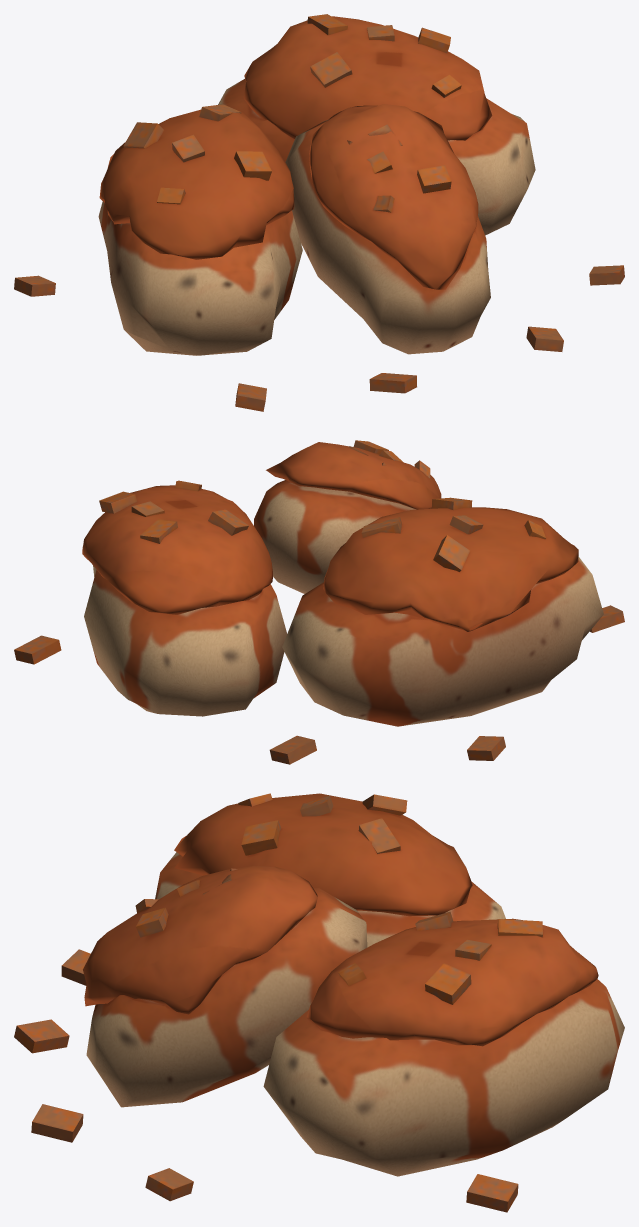
The model's file is papaFull.glb.
3 views of the same model, one above another, from view 1: azimuth 30°, elevation 25°; view 2: azimuth 150°, elevation 25°; view 3: azimuth 270°, elevation 25° (orthographic). The views are drawn at different scales.
Visible parts, largest first — view 1: Cube.005, Cube.002, Cube.001, Cube.003, Cube.004, Cube1, Cube.019, Cube.012, Cube.027, Cube.026, Cube.007, Cube.014 (+5 smaller); view 2: Cube.001, Cube.002, Cube1, Cube.003, Cube.004, Cube.005, Cube.025, Cube.024, Cube.014, Cube.023, Cube.019, Cube.016 (+3 smaller); view 3: Cube1, Cube.004, Cube.003, Cube.002, Cube.005, Cube.001, Cube.025, Cube.026, Cube.027, Cube.017, Cube.022, Cube.012 (+5 smaller).
Boxes of the visible parts, x1=… form: Cube.005: x1=309, y1=104, x2=478, y2=289; Cube.002: x1=99, y1=109, x2=294, y2=259; Cube.001: x1=98, y1=201, x2=302, y2=355; Cube.003: x1=243, y1=16, x2=492, y2=140; Cube.004: x1=285, y1=120, x2=490, y2=354; Cube1: x1=218, y1=79, x2=535, y2=235; Cube.019: x1=310, y1=52, x2=352, y2=87; Cube.012: x1=234, y1=151, x2=271, y2=180; Cube.027: x1=369, y1=373, x2=416, y2=393; Cube.026: x1=526, y1=326, x2=563, y2=351; Cube.007: x1=417, y1=165, x2=451, y2=193; Cube.014: x1=123, y1=122, x2=163, y2=148; Cube.001: x1=282, y1=556, x2=603, y2=726; Cube.002: x1=323, y1=507, x2=578, y2=631; Cube1: x1=84, y1=565, x2=286, y2=716; Cube.003: x1=82, y1=485, x2=272, y2=614; Cube.004: x1=254, y1=480, x2=416, y2=593; Cube.005: x1=266, y1=442, x2=441, y2=509; Cube.025: x1=14, y1=635, x2=61, y2=664; Cube.024: x1=269, y1=735, x2=316, y2=764; Cube.014: x1=433, y1=535, x2=469, y2=571; Cube.023: x1=467, y1=736, x2=505, y2=760; Cube.019: x1=208, y1=509, x2=248, y2=535; Cube.016: x1=140, y1=519, x2=177, y2=543; Cube1: x1=263, y1=979, x2=624, y2=1176; Cube.004: x1=86, y1=888, x2=367, y2=1107; Cube.003: x1=306, y1=918, x2=598, y2=1046; Cube.002: x1=174, y1=793, x2=472, y2=916; Cube.005: x1=83, y1=865, x2=317, y2=1014; Cube.001: x1=155, y1=852, x2=505, y2=947; Cube.025: x1=466, y1=1174, x2=518, y2=1212; Cube.026: x1=31, y1=1104, x2=83, y2=1142; Cube.027: x1=14, y1=1019, x2=69, y2=1053; Cube.017: x1=425, y1=963, x2=471, y2=1004; Cube.022: x1=145, y1=1168, x2=193, y2=1201; Cube.012: x1=241, y1=820, x2=281, y2=855.
Size of the model in its own units: 1.73 by 0.6837 by 1.67.
1 material, 1 textured.
